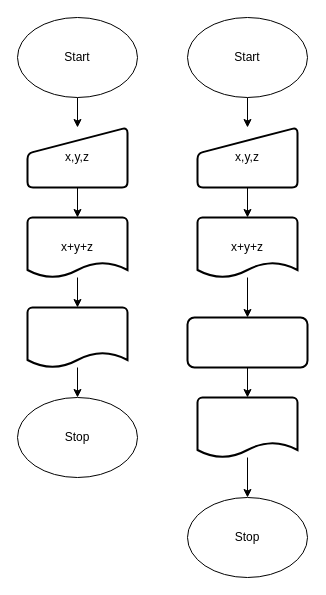
Image size: 326x595. Some labels were removed from this diagram. The box of each missing label's shape, as (x1, y1, x2, y2) in pixels:
(x+y+z)\3: (26, 306, 128, 368)
avg: (196, 396, 298, 458)
avg = (x+y+z)\3: (186, 316, 308, 368)
